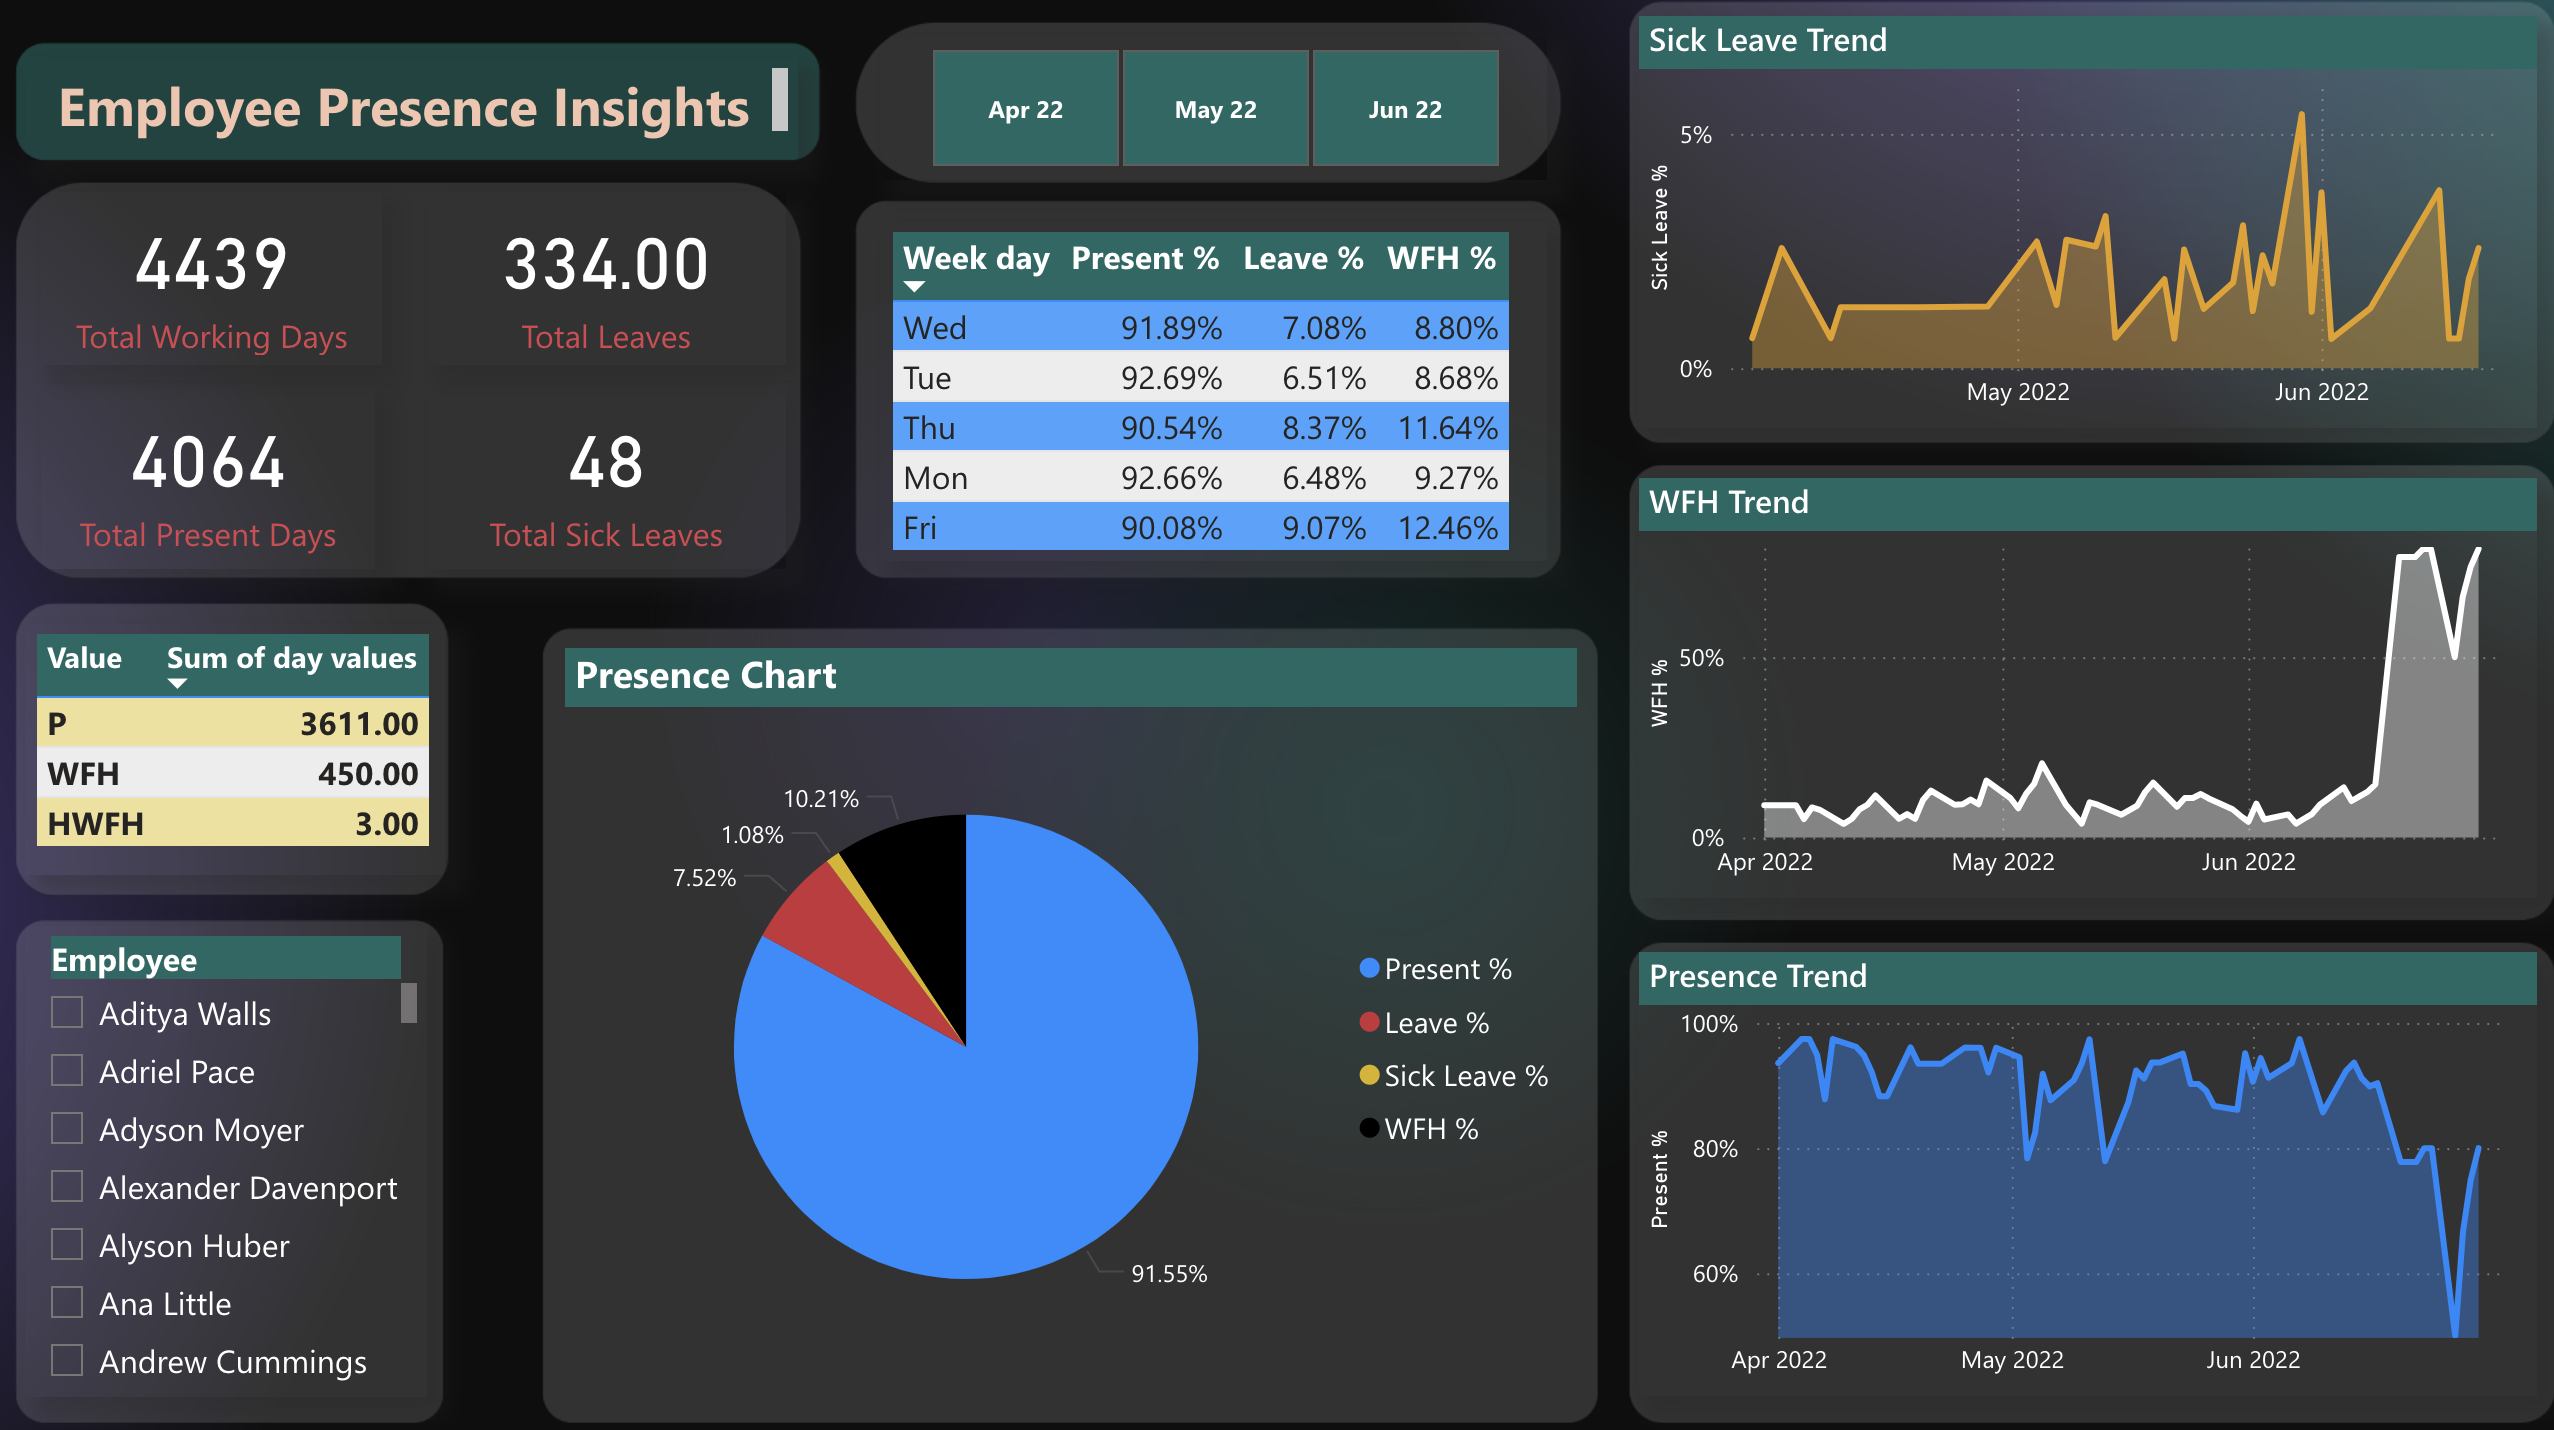

The page's visual inventory and layout, read from the dashboard file:
{"tool":"powerbi","page":{"name":"Page 1","canvas":[1280,720],"ordinal":0},"visuals":[{"type":"card","fields":{"Values":["Table Metrics.Total Working Days"]},"box":[23.2,100,170.7,86.6],"z":0},{"type":"card","fields":{"Values":["Table Metrics.Total Present Days"]},"box":[23.2,196.3,167.1,92.7],"z":1000},{"type":"card","fields":{"Values":["Table Metrics.Total Sick Leaves"]},"box":[215.8,196.3,179.3,92.7],"z":2000},{"type":"slicer","fields":{"Values":["final data.Date Month"]},"box":[442.7,21.9,332.9,72],"z":3000},{"type":"card","fields":{"Values":["Table Metrics.Total Leaves"]},"box":[215.8,100,179.3,86.6],"z":4000},{"type":"pieChart","title":"Presence  Chart","fields":{"Y":["Table Metrics.Present %","Table Metrics.Leave %","Table Metrics.Sick Leave %","Table Metrics.WFH %"]},"box":[285.4,328.1,506.1,374.4],"z":5000},{"type":"slicer","fields":{"Values":["final data.Name"]},"box":[14.6,467.1,201.2,235.4],"z":6000},{"type":"tableEx","fields":{"Values":["final data.Value","final data.day values"]},"box":[14.6,315.9,209.8,125.6],"z":7000},{"type":"stackedAreaChart","title":"Presence Trend","fields":{"Y":["Table Metrics.Present %"],"Category":["final data.Date.Variation.Date Hierarchy.Year","final data.Date.Variation.Date Hierarchy.Month","final data.Date.Variation.Date Hierarchy.Day"]},"box":[822,480.5,448.8,221.9],"z":8000},{"type":"stackedAreaChart","title":"WFH Trend","fields":{"Category":["final data.Date.Variation.Date Hierarchy.Year","final data.Date.Variation.Date Hierarchy.Month","final data.Date.Variation.Date Hierarchy.Day"],"Y":["Table Metrics.WFH %"]},"box":[822,242.7,448.8,209.8],"z":9000},{"type":"stackedAreaChart","title":"Sick Leave Trend","fields":{"Category":["final data.Date.Variation.Date Hierarchy.Year","final data.Date.Variation.Date Hierarchy.Month","final data.Date.Variation.Date Hierarchy.Day"],"Y":["Table Metrics.Sick Leave %"]},"box":[822,12.2,448.8,206.1],"z":10000},{"type":"tableEx","fields":{"Values":["final data.week day","Table Metrics.Present %","Table Metrics.Leave %","Table Metrics.WFH %"]},"box":[442.7,114.6,332.9,169.5],"z":11000},{"type":"textbox","box":[14.6,32.9,386.6,51.2],"z":12000}]}

Visuals, with their boxes in screenshot pixels (x1, y1, x2, y2), scaled from the page's 1280x720 canvas onto the 2554x1430 screenshot:
card - Table Metrics.Total Working Days: 46:199:387:371
card - Table Metrics.Total Present Days: 46:390:380:574
card - Table Metrics.Total Sick Leaves: 431:390:788:574
slicer - final data.Date Month: 883:43:1548:186
card - Table Metrics.Total Leaves: 431:199:788:371
"Presence  Chart" pieChart: 569:652:1579:1395
slicer - final data.Name: 29:928:431:1395
tableEx - final data.Value x final data.day values: 29:627:448:877
"Presence Trend" stackedAreaChart: 1640:954:2536:1395
"WFH Trend" stackedAreaChart: 1640:482:2536:899
"Sick Leave Trend" stackedAreaChart: 1640:24:2536:434
tableEx - final data.week day x Table Metrics.Present %: 883:228:1548:564
textbox: 29:65:801:167
